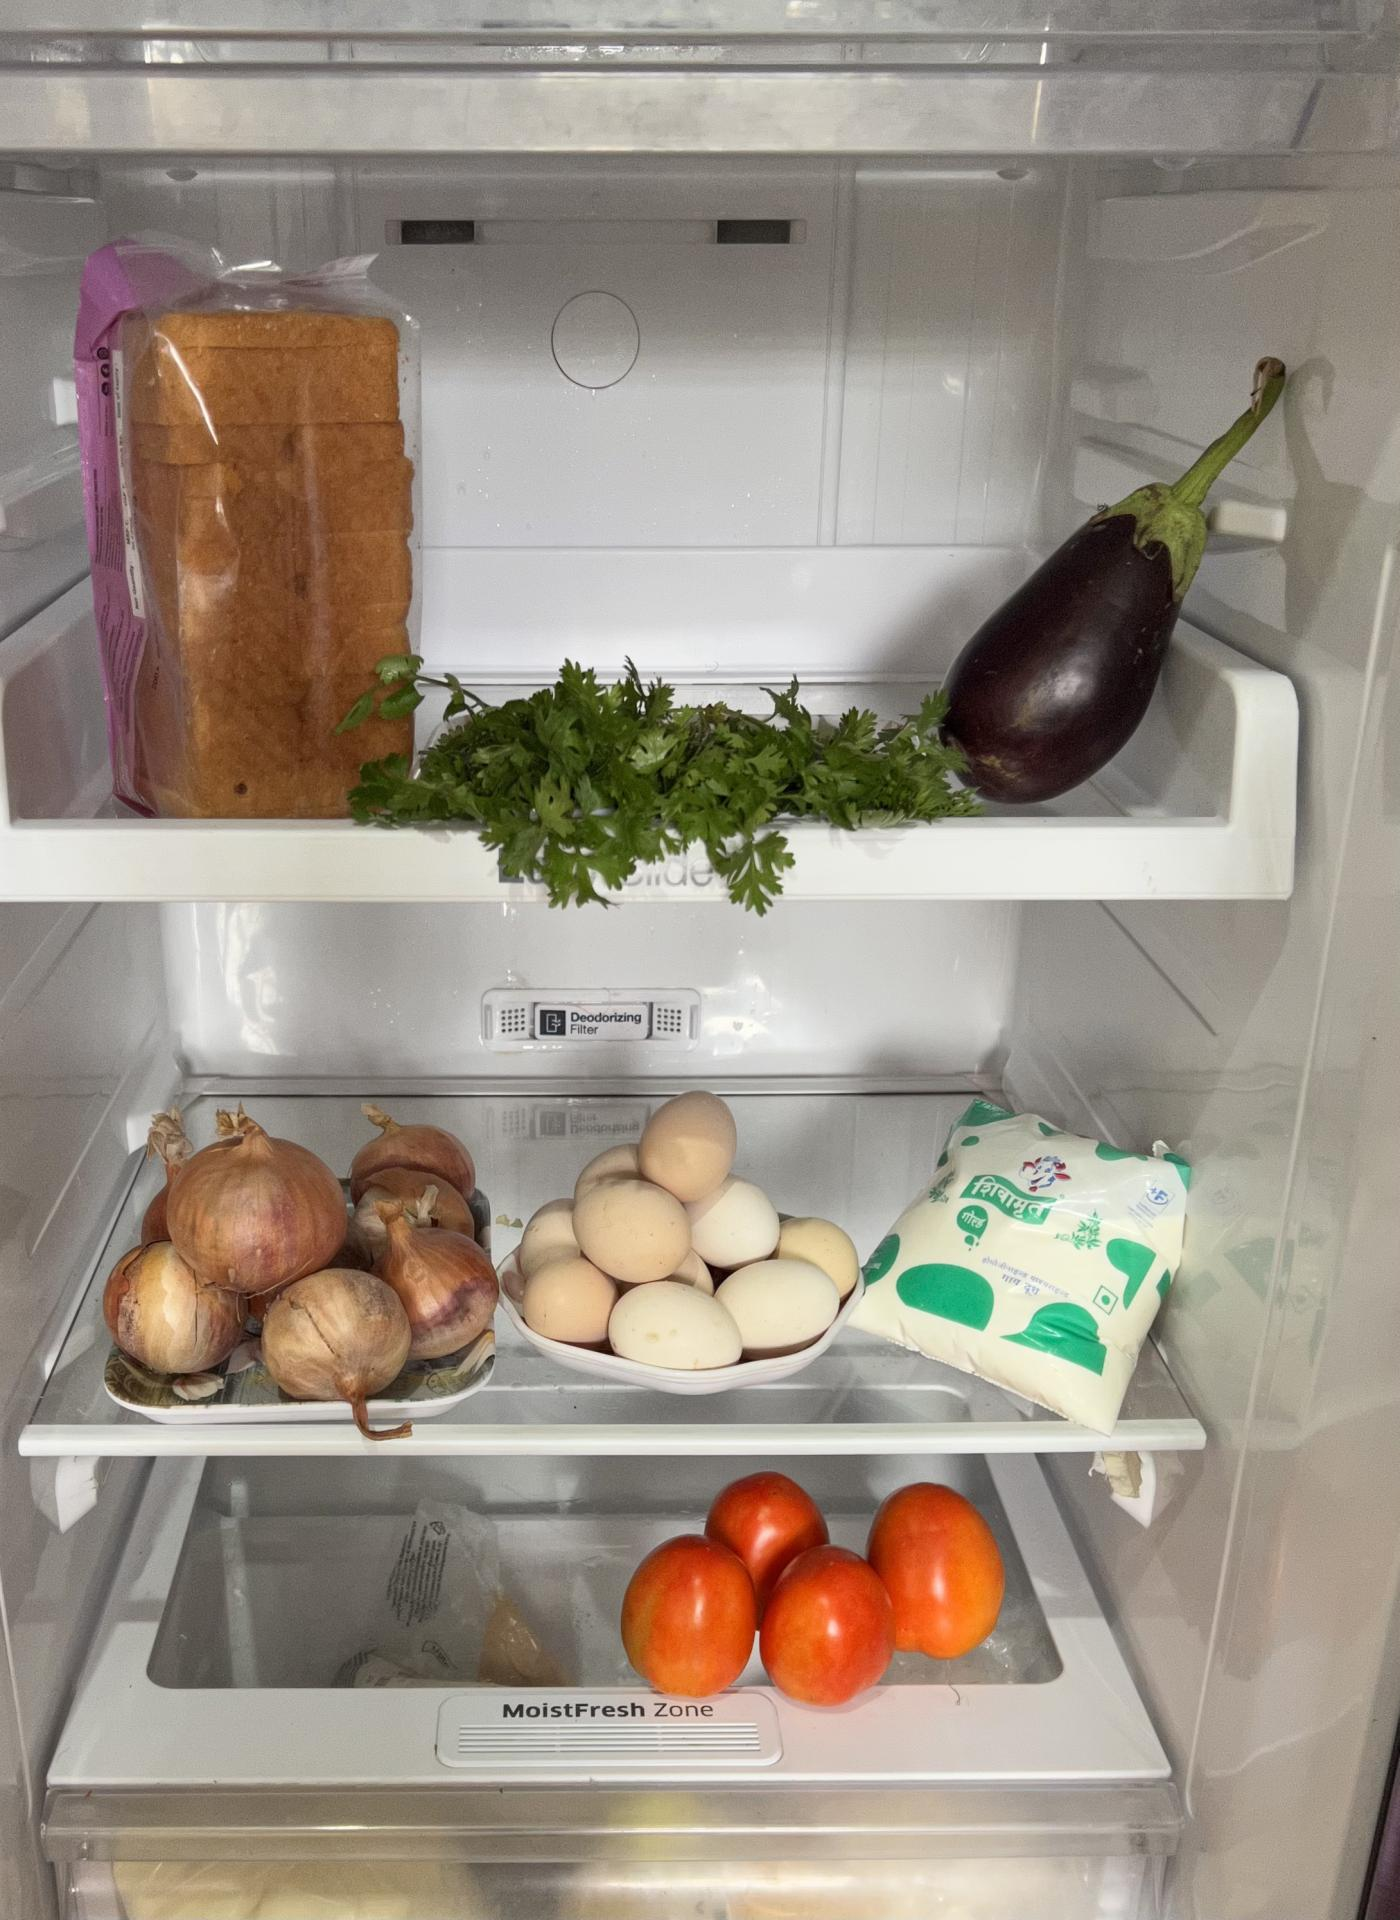bread: (52, 250, 428, 817)
coriander: (426, 672, 918, 878)
egg: (511, 1094, 850, 1376)
milk: (865, 1094, 1172, 1409)
onion: (95, 1109, 494, 1395)
tomato: (625, 1467, 1000, 1702)
